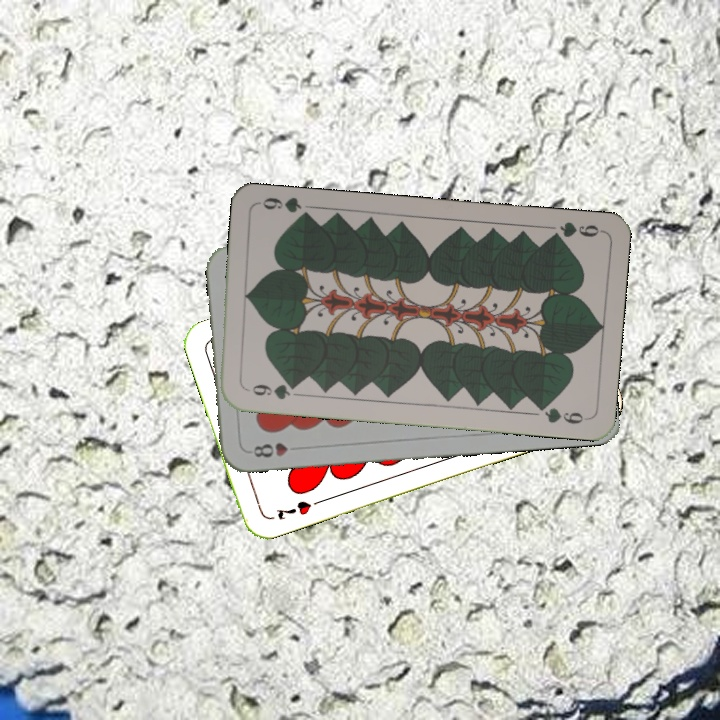G9: (544, 217, 604, 243), (241, 380, 301, 403)
H7: (272, 495, 324, 523)
H8: (249, 438, 290, 460)
